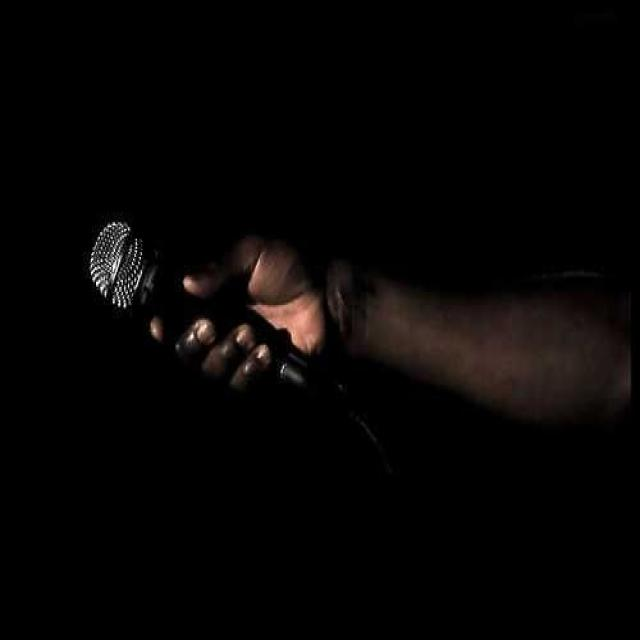microphone: (93, 215, 288, 389)
